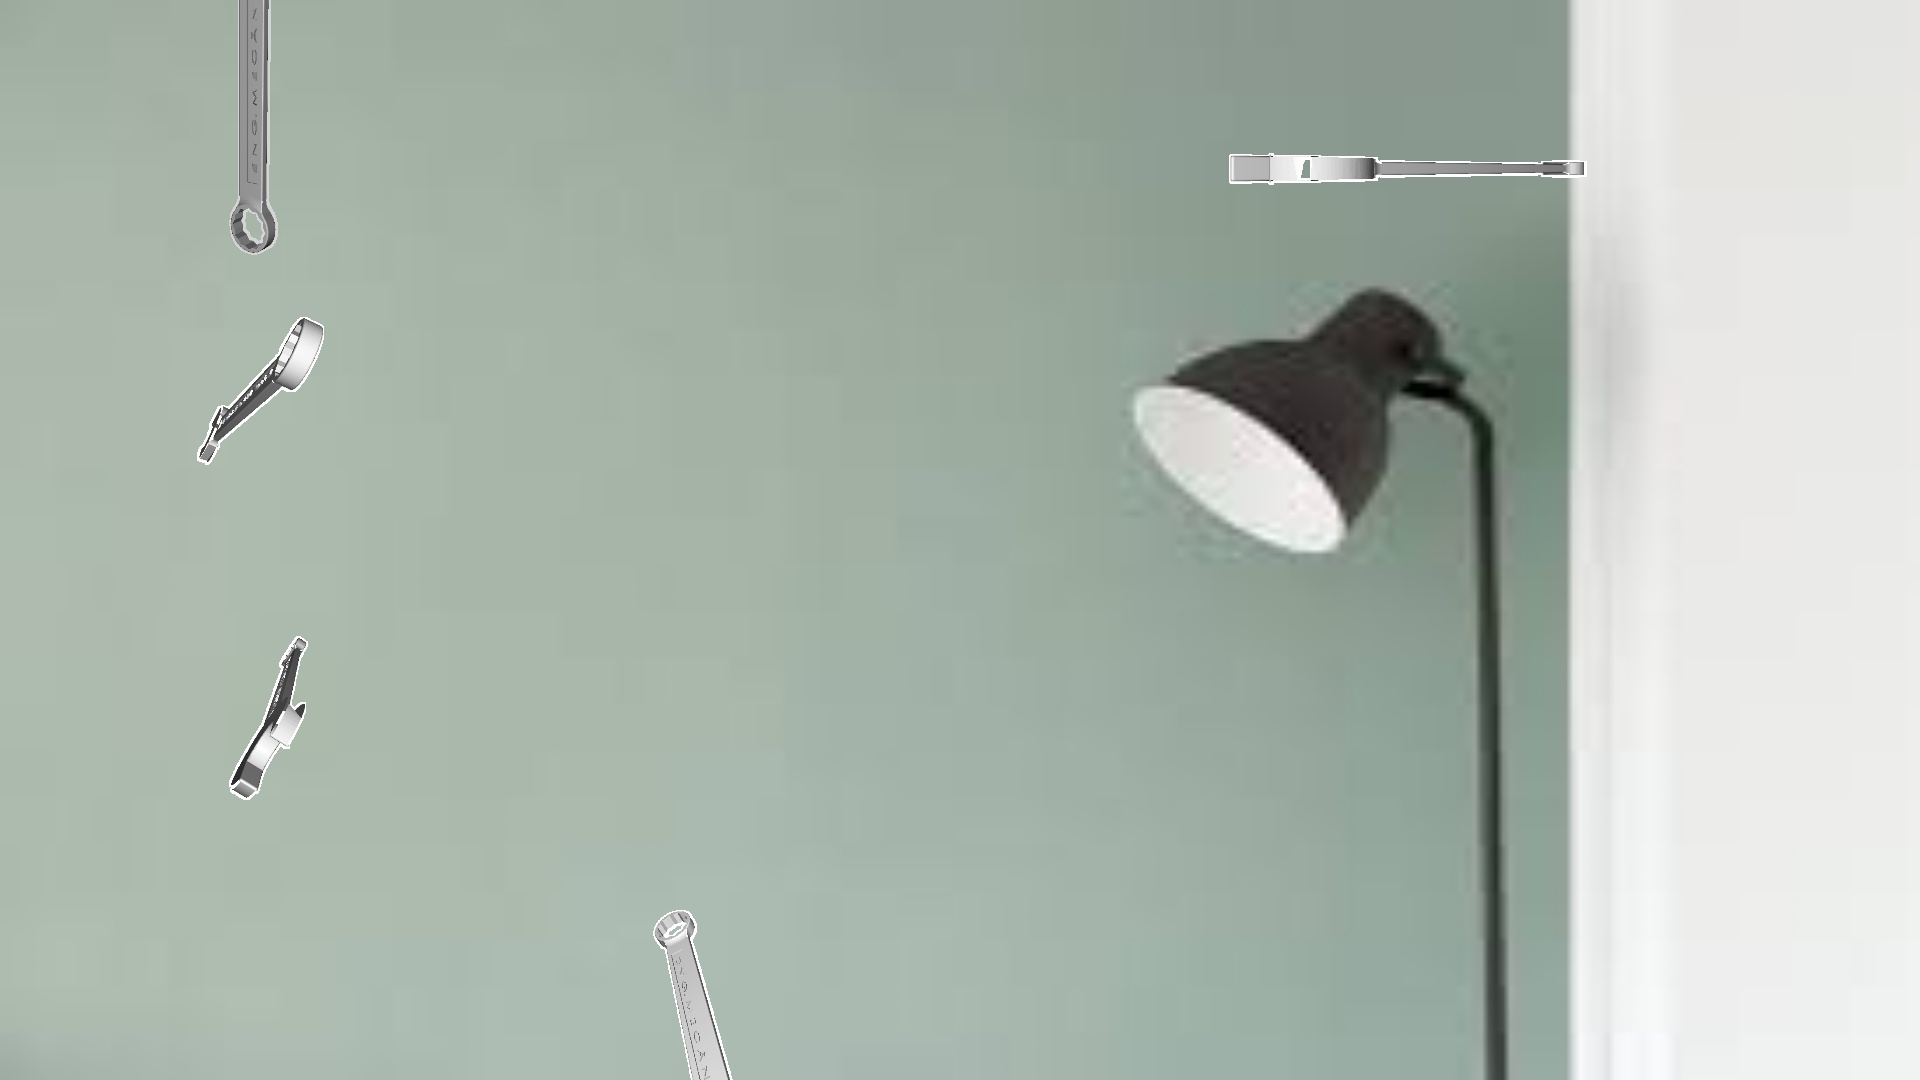Mixed Key: (196, 316, 323, 464), (653, 910, 732, 1079), (229, 636, 307, 799), (229, 0, 277, 255), (1229, 153, 1586, 185)
